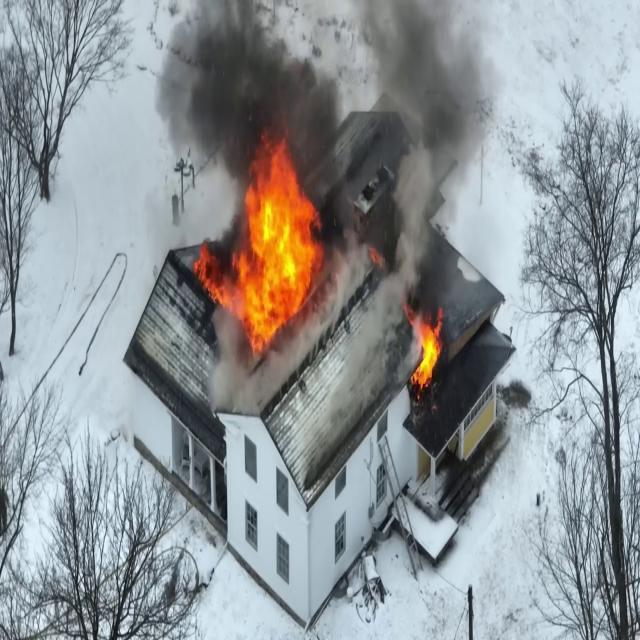Fire: (220, 138, 325, 354), (408, 302, 446, 398)
Smoke: (364, 2, 498, 306), (146, 2, 348, 200)
